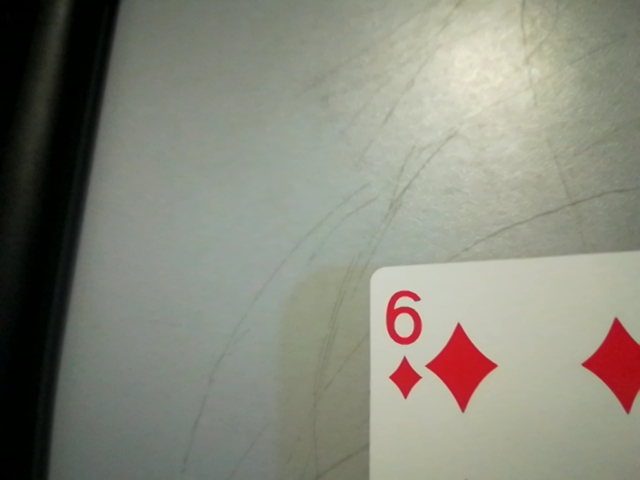fk 6: (371, 283, 433, 407)
